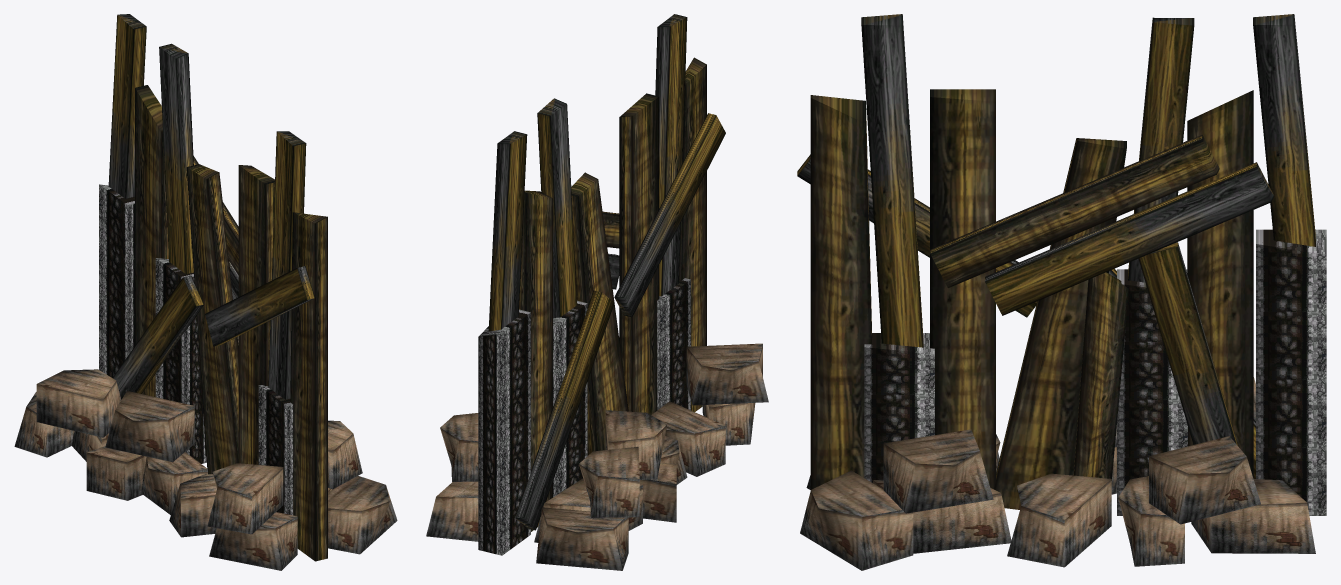
The model's file is CB_WOOD_BARACADE03.obj.
3 renders of one model, left to right at view 1: azimuth 30°, elevation 25°; view 2: azimuth 150°, elevation 25°; view 3: azimuth 270°, elevation 25°, orthographic. The views are drawn at different scales.
Visible parts, largest first — view 1: wood_baracade03; view 2: wood_baracade03; view 3: wood_baracade03.
Part boxes in pixels (bbox=[...]): wood_baracade03: bbox=[14, 14, 397, 570]; wood_baracade03: bbox=[426, 14, 768, 570]; wood_baracade03: bbox=[797, 14, 1326, 570].
Size of the model in its own units: 208 by 376 by 364.
